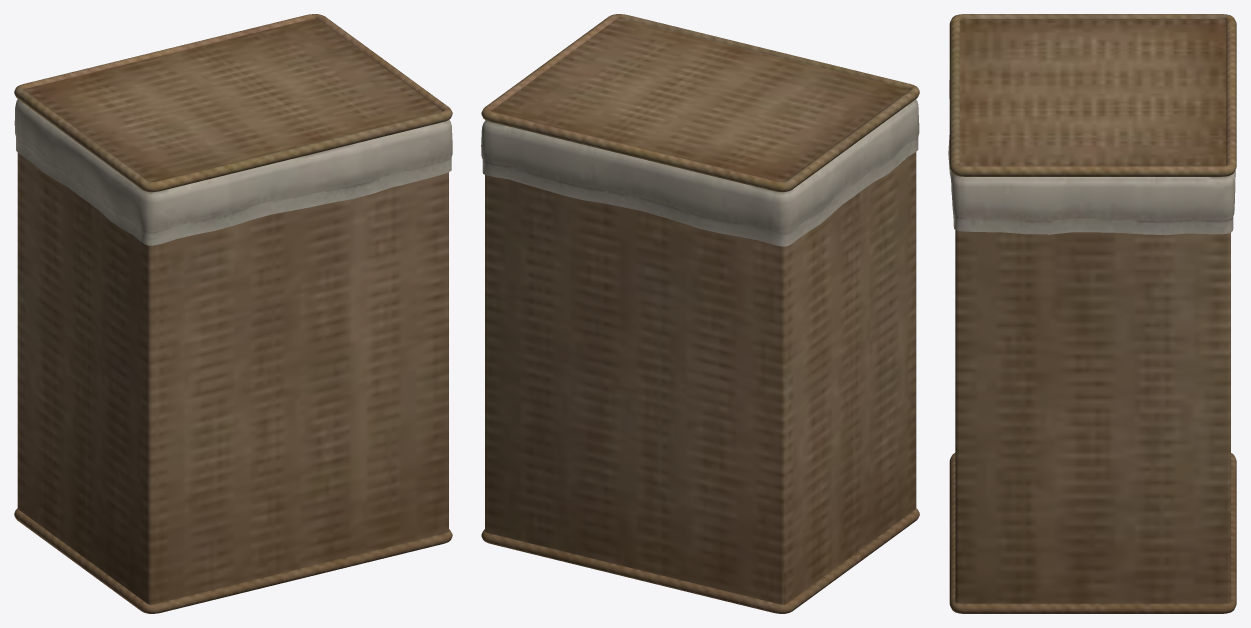
File: SM_wicker_basket_549db1.glb
3 views of the same model, side by side, from view 1: azimuth 30°, elevation 25°; view 2: azimuth 150°, elevation 25°; view 3: azimuth 270°, elevation 25° (orthographic). The views are drawn at different scales.
Bounding box in the file's own units: 0.4999 × 0.6593 × 0.3851.
1 material, 1 textured.
